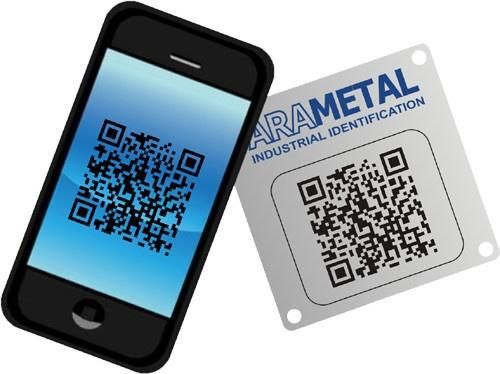Finder pattern: (324, 255, 356, 288), (66, 195, 97, 228), (94, 116, 127, 146), (377, 145, 408, 175), (296, 175, 326, 205), (176, 146, 204, 175)
